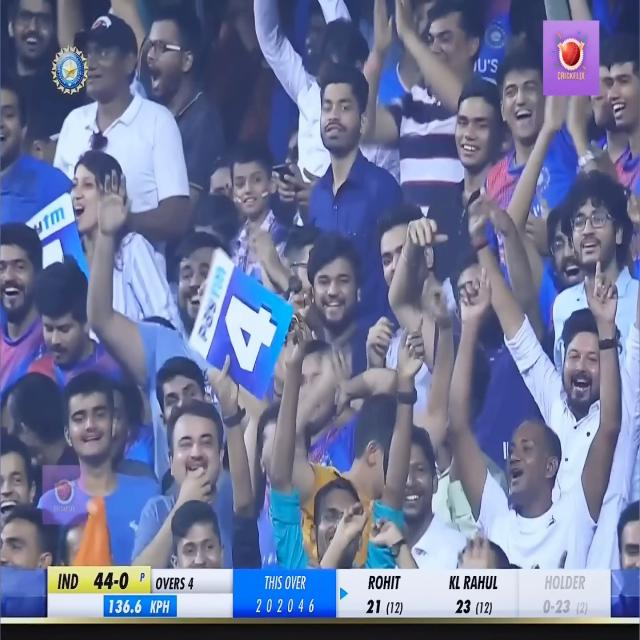fully_visible: (195, 242, 232, 367)
partially_visible: (16, 200, 82, 252)
